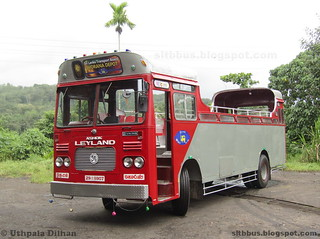bus: (50, 50, 287, 217)
